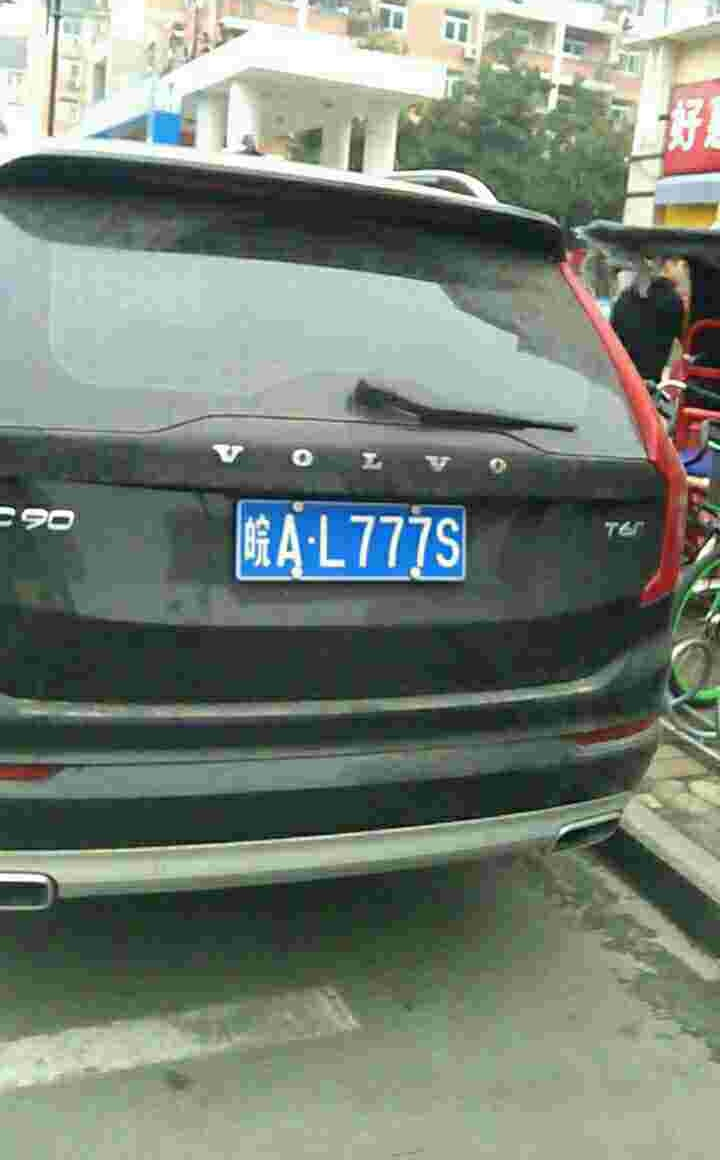license_plate: (248, 501, 475, 579)
